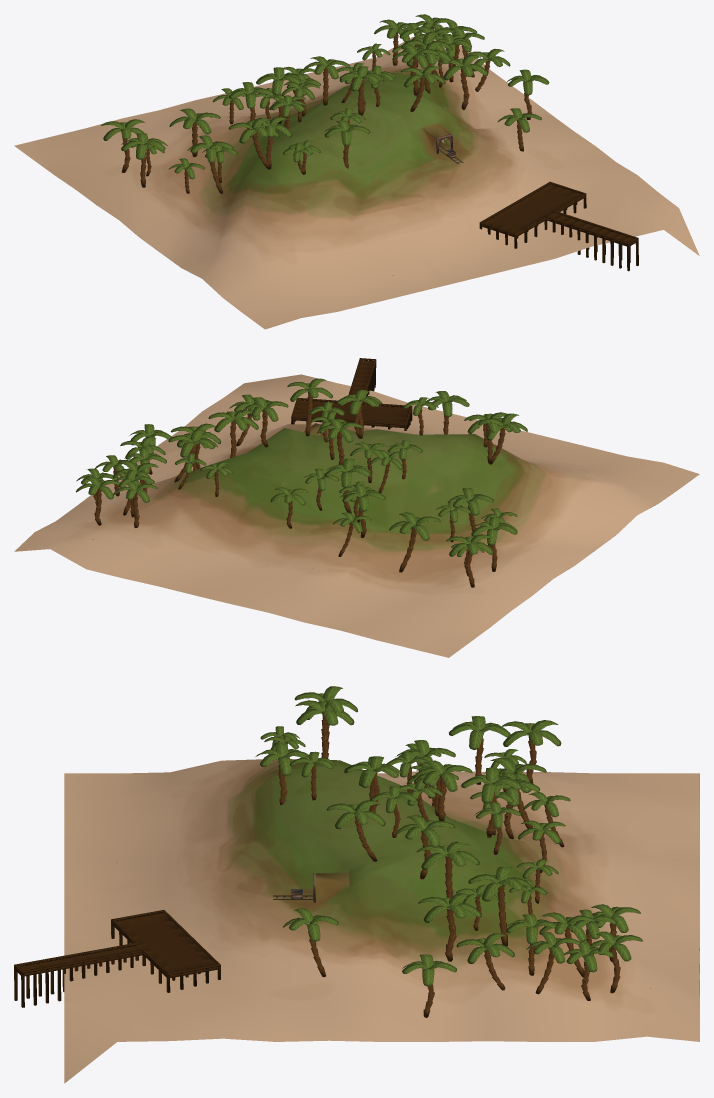
The model's file is island4.fbx.
3 views of the same model, one above another, from view 1: azimuth 30°, elevation 25°; view 2: azimuth 150°, elevation 25°; view 3: azimuth 270°, elevation 25° (orthographic). The views are drawn at different scales.
Parts seen in each view (by area): view 1: Island4; view 2: Island4; view 3: Island4.
Boxes of the visible parts, x1,y1,x2,y2 form: Island4: (14, 14, 699, 329); Island4: (14, 358, 699, 657); Island4: (14, 686, 699, 1083).
Bounding box in the file's own units: 1101 × 355 × 1187.
